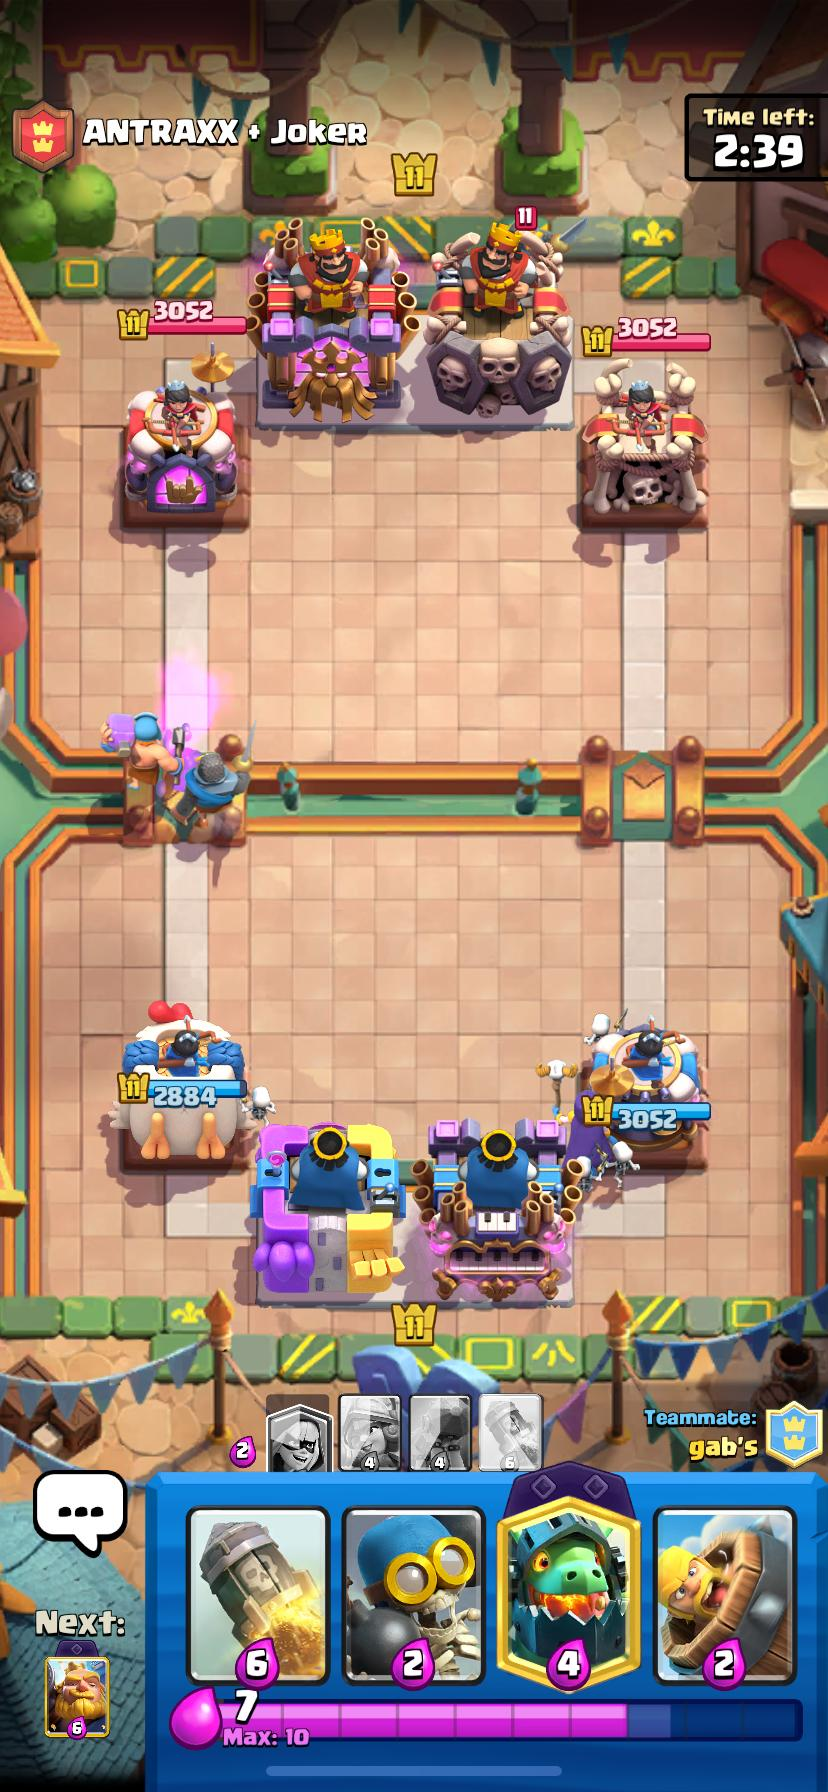EKingTower: (249, 219, 417, 422), (423, 225, 571, 418)
EnemyPrincessTower: (580, 365, 706, 519), (124, 384, 237, 520)
OKnight: (176, 738, 250, 839)
OLarry: (611, 1137, 639, 1189), (578, 1157, 600, 1195)
OLumberjack: (102, 714, 180, 789)
OWitch: (543, 1059, 614, 1170)
OwnKingTower: (414, 1122, 573, 1303), (253, 1123, 403, 1303)
OwnPrincessTower: (111, 1003, 249, 1163), (581, 1016, 710, 1165)
